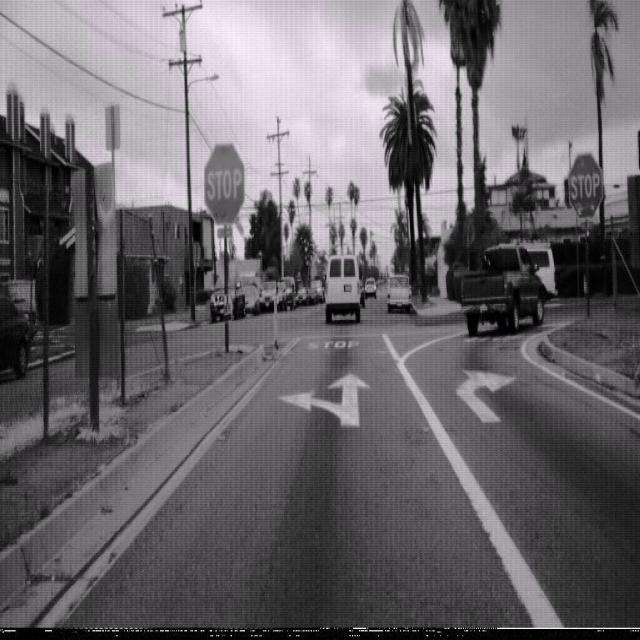stop_sign: (203, 141, 245, 224), (568, 151, 603, 219)
